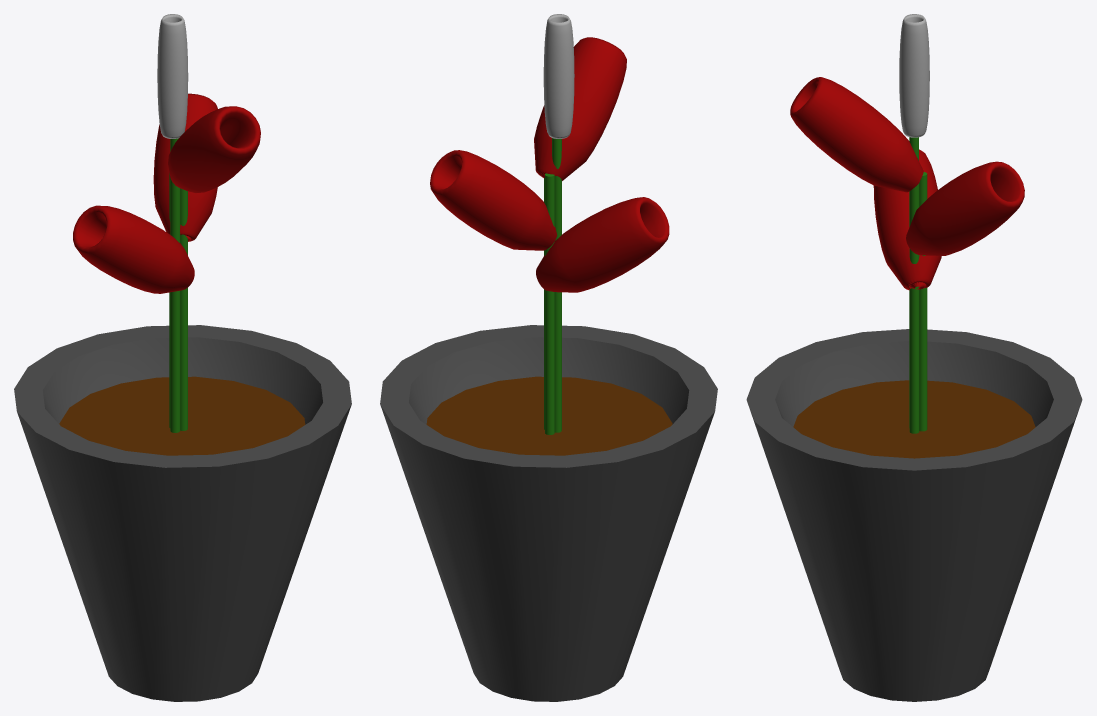
Rendered from Pot_Plant.fbx.
3 views of the same model, side by side, from view 1: azimuth 30°, elevation 25°; view 2: azimuth 150°, elevation 25°; view 3: azimuth 270°, elevation 25° (orthographic).
Visible parts, largest first — view 1: pPipe1, pCone1, pasted__pasted__pTorus1, pTorus1, pTorus2, pasted__pTorus1, pasted__pCylinder1, pasted__pasted__pCylinder1, pCylinder1; view 2: pPipe1, pCone1, pasted__pasted__pTorus1, pasted__pTorus1, pTorus1, pTorus2, pasted__pCylinder1 (×2), pasted__pasted__pCylinder1; view 3: pPipe1, pCone1, pTorus1, pasted__pTorus1, pasted__pasted__pTorus1, pTorus2, pCylinder1, pasted__pCylinder1.
Part boxes in pixels (x1,y1,x2,y2): pPipe1: [14, 325, 351, 701]; pCone1: [59, 376, 305, 455]; pasted__pasted__pTorus1: [73, 205, 194, 293]; pTorus1: [168, 106, 260, 192]; pTorus2: [157, 14, 188, 138]; pasted__pTorus1: [153, 93, 217, 241]; pasted__pCylinder1: [170, 179, 180, 432]; pasted__pasted__pCylinder1: [170, 138, 180, 432]; pCylinder1: [180, 188, 187, 430]; pPipe1: [380, 325, 717, 701]; pCone1: [426, 376, 672, 455]; pasted__pasted__pTorus1: [536, 197, 669, 292]; pasted__pTorus1: [430, 150, 556, 250]; pTorus1: [534, 37, 626, 180]; pTorus2: [543, 14, 574, 138]; pasted__pCylinder1 (×2): [545, 173, 561, 434]; pasted__pasted__pCylinder1: [552, 138, 561, 432]; pPipe1: [746, 329, 1082, 701]; pCone1: [793, 380, 1035, 458]; pTorus1: [790, 77, 923, 192]; pasted__pTorus1: [906, 161, 1024, 255]; pasted__pasted__pTorus1: [873, 149, 941, 290]; pTorus2: [899, 14, 929, 137]; pCylinder1: [909, 183, 919, 433]; pasted__pCylinder1: [919, 172, 927, 431].
Bounding box in the file's own units: 2.65 × 5.62 × 2.65.
